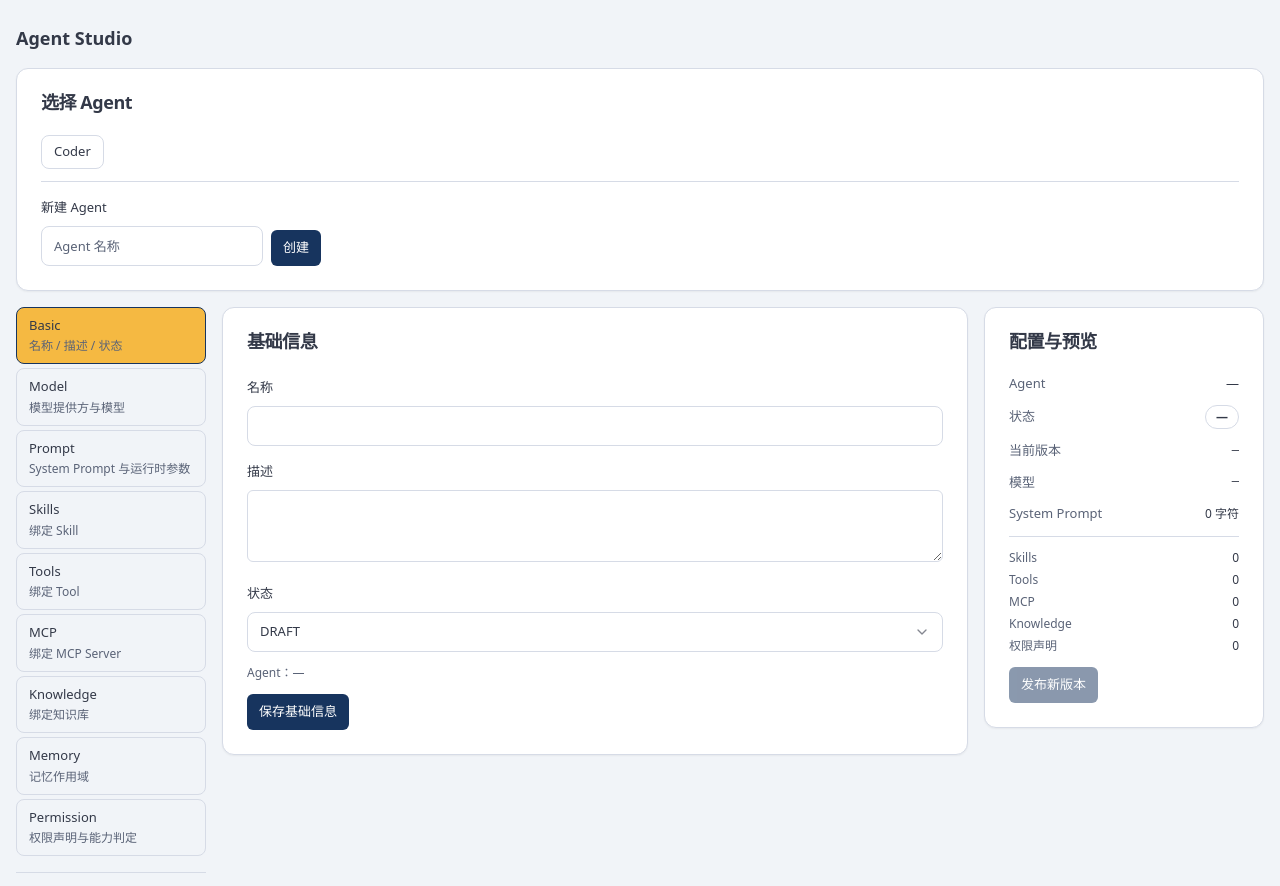
it: AgentStudio › 发布产生新 agent_version
Click the button with test id "studio-agent-a1" at (72, 152), box [41, 135, 104, 168]
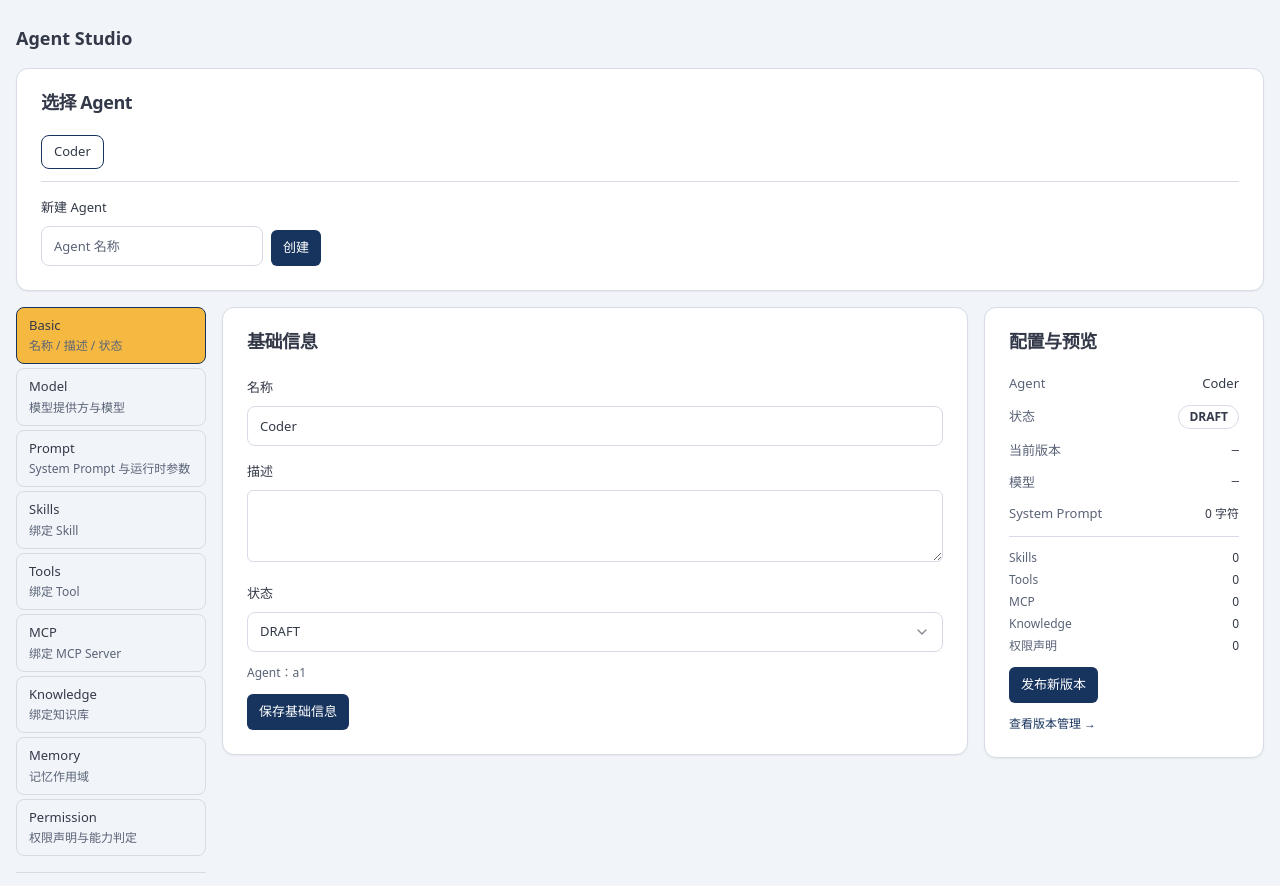
Click the button with test id "studio-publish" at (1054, 684), box [1009, 666, 1098, 702]
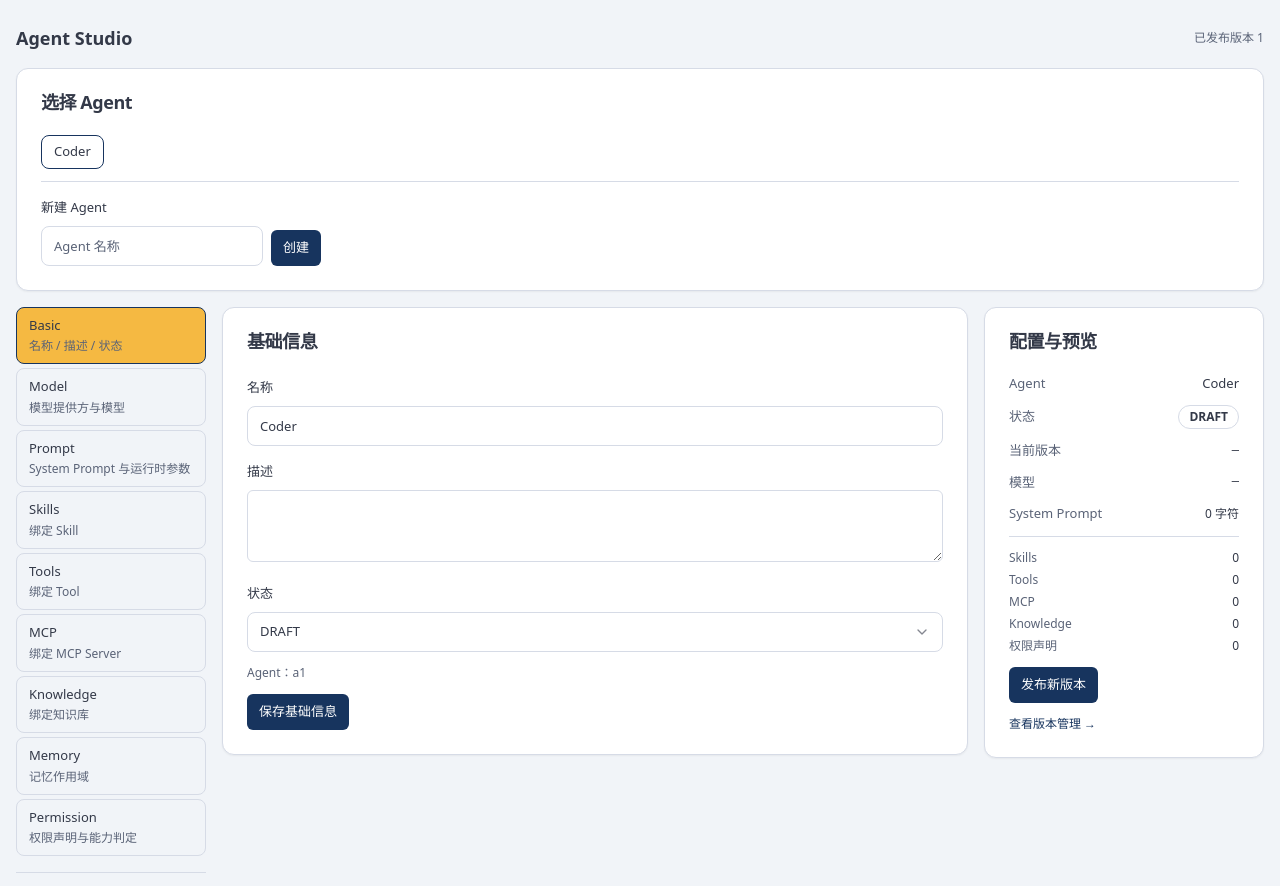
expect the text with test id "studio-feedback" reads "已发布版本 1": met, box [1194, 29, 1264, 46]
